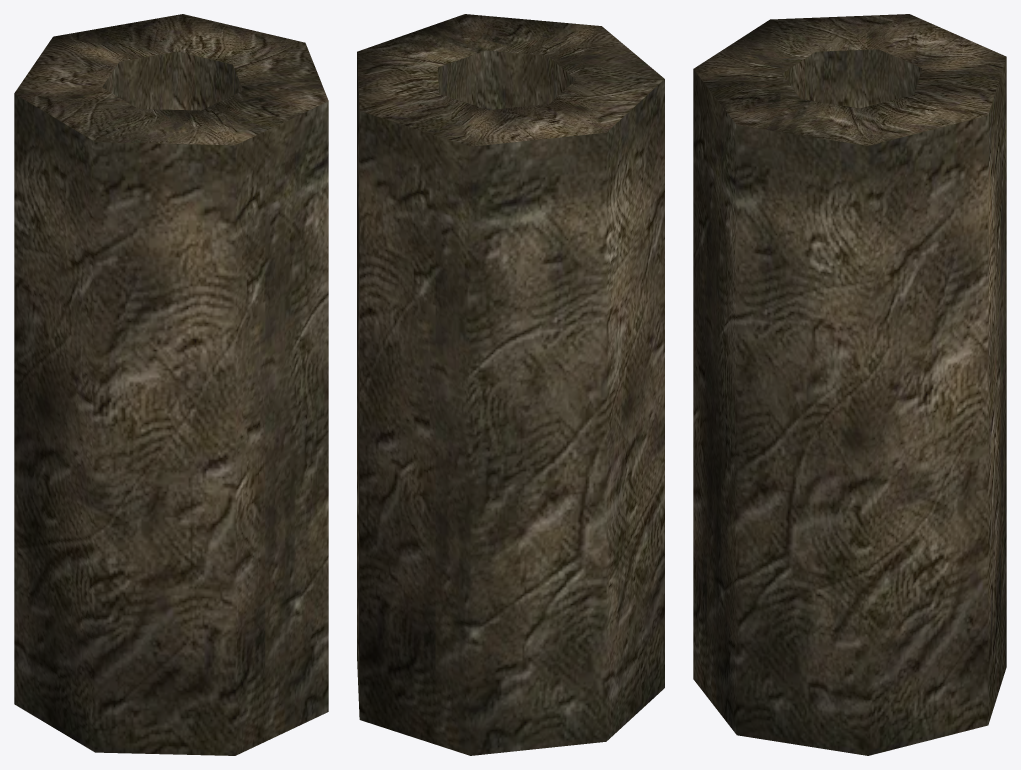
Rendered from EVT_CASTLE_LIFT_01.glb.
3 renders of one model, left to right at view 1: azimuth 30°, elevation 25°; view 2: azimuth 150°, elevation 25°; view 3: azimuth 270°, elevation 25°, orthographic.
Parts seen in each view (by area): view 1: Mesh; view 2: Mesh; view 3: Mesh.
Boxes of the visible parts, box(x1,y1,x2,y2) form: Mesh: box(14, 14, 328, 755); Mesh: box(357, 14, 664, 755); Mesh: box(693, 14, 1006, 755).
Bounding box in the file's own units: 4.1 × 8.85 × 4.12.
1 material, 1 textured.
